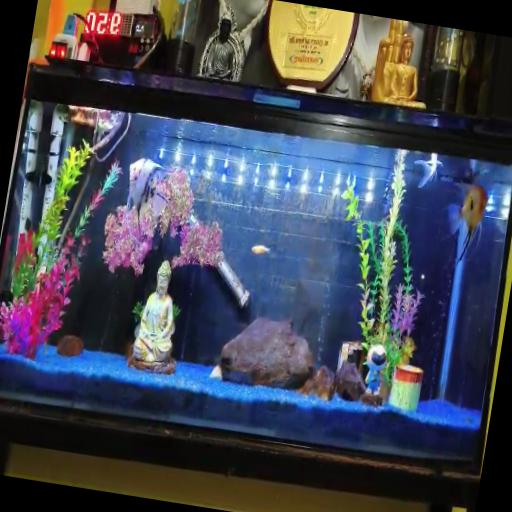Fish: (125, 158, 168, 234), (447, 185, 487, 263), (414, 154, 442, 187), (250, 245, 269, 254)
